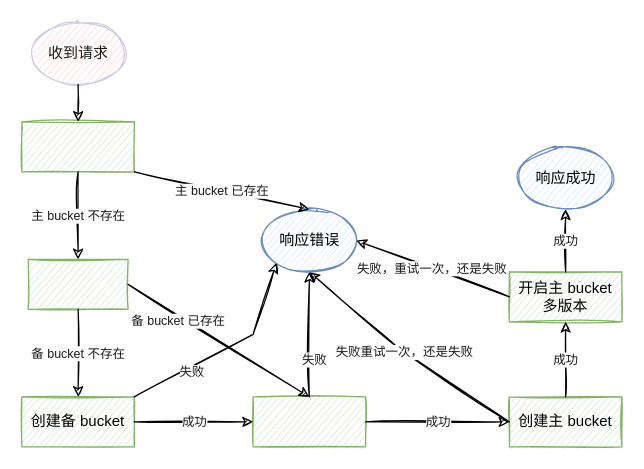
This 644x469 diagram has some shape labels left out. Each missing label, with the centre of its shape:
"开启备 bucket 多版本" belongs at (309,421).
"查询主 bucket" belongs at (77,146).
"查询备 bucket" belongs at (77,283).
